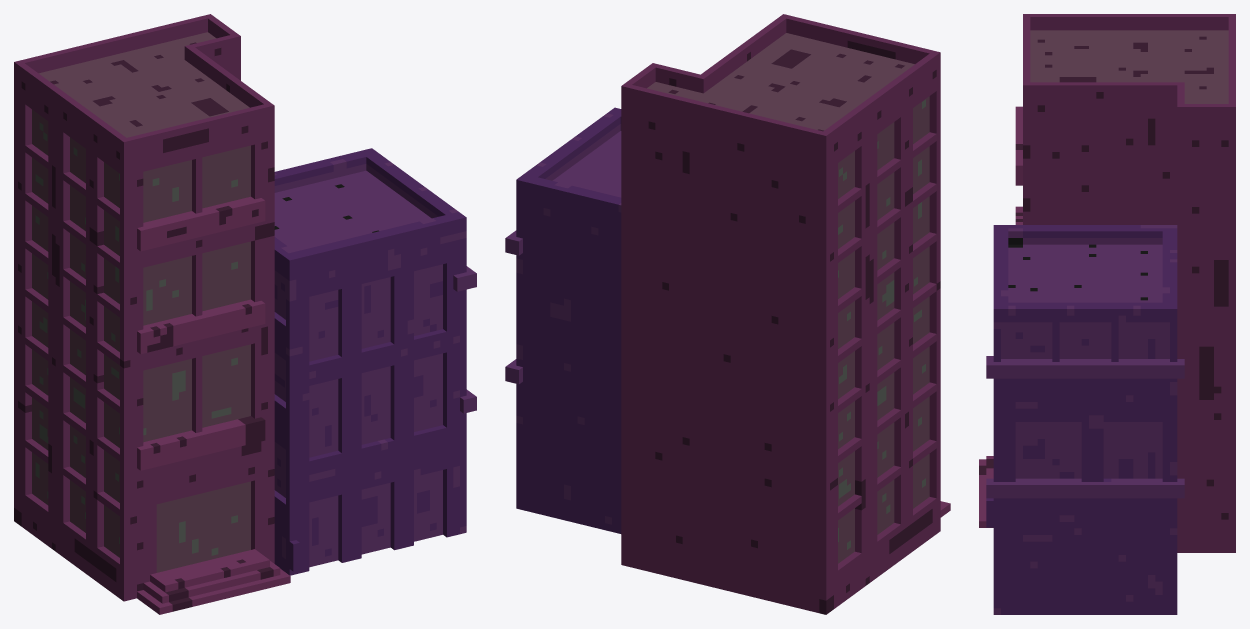
File: building4.obj
3 renders of one model, left to right at view 1: azimuth 30°, elevation 25°; view 2: azimuth 150°, elevation 25°; view 3: azimuth 270°, elevation 25°, orthographic. The views are drawn at different scales.
Bounding box in the file's own units: 5.1 × 6.7 × 3.5.
Materials: 1 (1 with a texture image).
